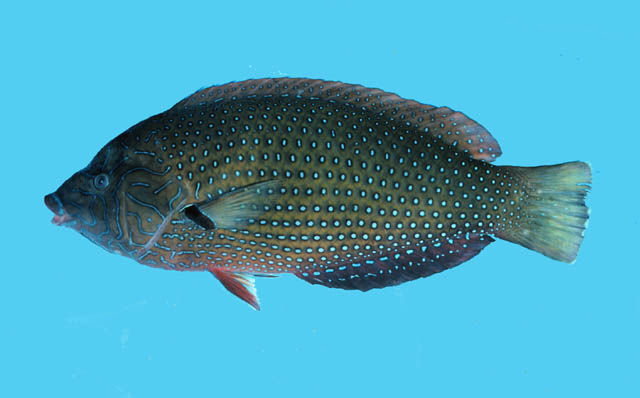fish: (45, 76, 594, 310)
